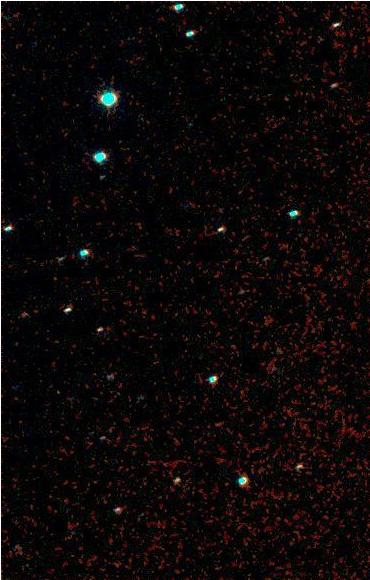star: (203, 410, 233, 440)
